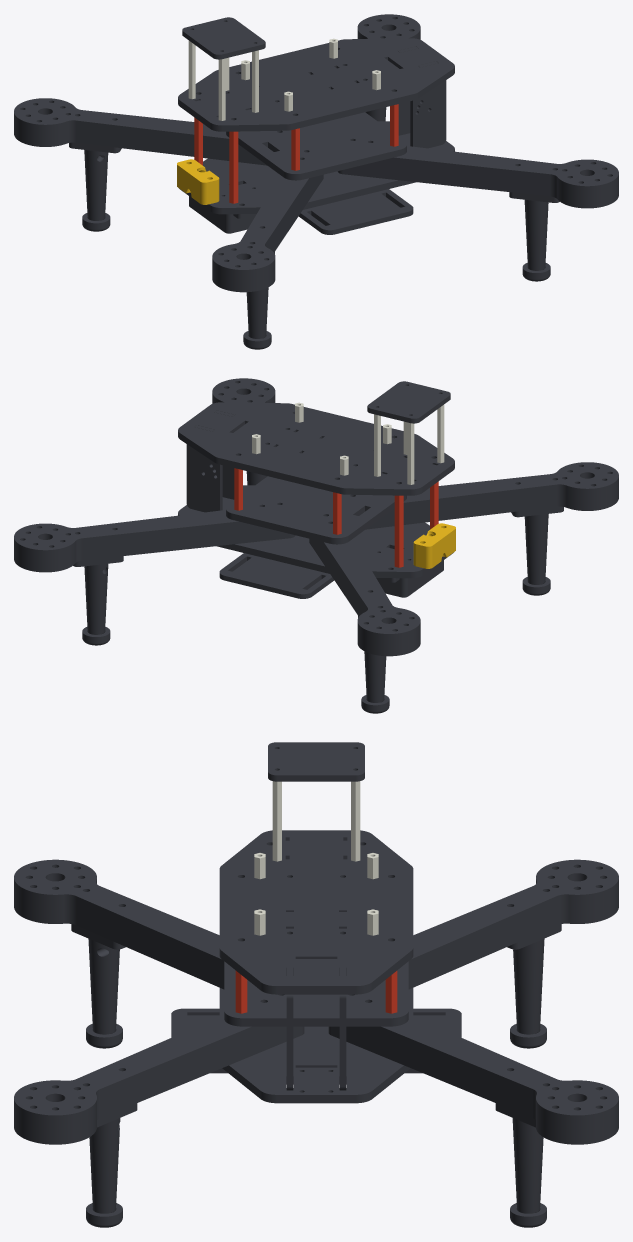
The model's file is drone_frame_only.glb.
3 views of the same model, one above another, from view 1: azimuth 30°, elevation 25°; view 2: azimuth 150°, elevation 25°; view 3: azimuth 270°, elevation 25° (orthographic). The views are drawn at different scales.
Parts seen in each view (by area): view 1: top_plate, arm_4, arm_2, mid_plate, arm_3, bottom_plate, battery_tray, gps_plate, camera_plate_R, landing_leg_2, landing_leg_4, antenna_mount (+6 smaller); view 2: top_plate, arm_1, arm_3, mid_plate, arm_2, bottom_plate, battery_tray, gps_plate, camera_plate_L, landing_leg_3, landing_leg_1, antenna_mount (+6 smaller); view 3: top_plate, arm_1, arm_4, arm_2, arm_3, bottom_plate, mid_plate, gps_plate, landing_leg_2, landing_leg_3, landing_leg_1, landing_leg_4 (+5 smaller).
Part boxes in pixels (x1,y1,x2,y2): top_plate: [178, 38, 454, 131]; arm_4: [337, 146, 618, 208]; arm_2: [14, 98, 266, 165]; mid_plate: [226, 112, 406, 180]; arm_3: [212, 174, 323, 292]; bottom_plate: [179, 121, 454, 214]; battery_tray: [298, 189, 413, 234]; gps_plate: [182, 17, 265, 59]; camera_plate_R: [410, 61, 446, 148]; landing_leg_2: [69, 142, 121, 220]; landing_leg_4: [509, 192, 559, 270]; antenna_mount: [177, 159, 219, 204]; top_plate: [178, 402, 454, 495]; arm_1: [14, 510, 295, 572]; arm_3: [366, 462, 618, 529]; mid_plate: [226, 476, 406, 544]; arm_2: [309, 538, 420, 656]; bottom_plate: [178, 485, 453, 578]; battery_tray: [219, 553, 334, 598]; gps_plate: [367, 381, 450, 423]; camera_plate_L: [186, 425, 222, 512]; landing_leg_3: [511, 506, 563, 584]; landing_leg_1: [73, 556, 123, 634]; antenna_mount: [413, 523, 455, 568]; top_plate: [219, 830, 413, 994]; arm_1: [328, 1015, 618, 1144]; arm_4: [14, 1015, 304, 1144]; arm_2: [408, 859, 618, 989]; arm_3: [14, 859, 224, 989]; bottom_plate: [219, 988, 413, 1103]; mid_plate: [224, 961, 408, 1026]; gps_plate: [268, 742, 364, 781]; landing_leg_2: [507, 924, 561, 1034]; landing_leg_3: [71, 924, 125, 1034]; landing_leg_1: [495, 1103, 543, 1213]; landing_leg_4: [89, 1103, 137, 1213].
Bounding box in the file's own units: 262 × 150 × 262.
